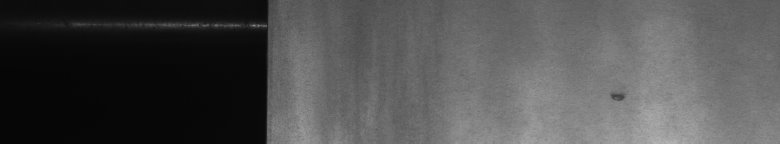fi: (608, 84, 628, 108)
